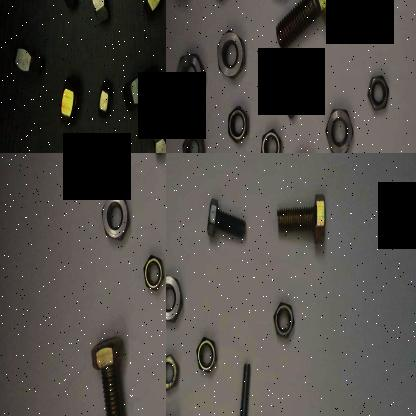Bolts: (87, 324, 132, 416), (273, 187, 333, 253), (261, 53, 302, 125), (204, 193, 252, 251), (233, 364, 257, 416)
NUTS: (121, 56, 166, 120), (98, 187, 134, 245), (174, 50, 206, 112), (216, 26, 248, 84), (53, 71, 83, 127), (10, 35, 48, 78), (323, 107, 357, 153), (271, 294, 302, 344), (366, 63, 394, 118), (95, 74, 117, 124), (140, 251, 166, 293), (194, 336, 222, 374), (166, 274, 188, 322), (224, 107, 252, 143), (138, 0, 166, 34), (166, 351, 185, 394), (179, 127, 209, 153), (88, 0, 112, 31), (258, 127, 284, 153), (151, 114, 166, 153), (56, 0, 80, 19), (102, 142, 128, 153)
